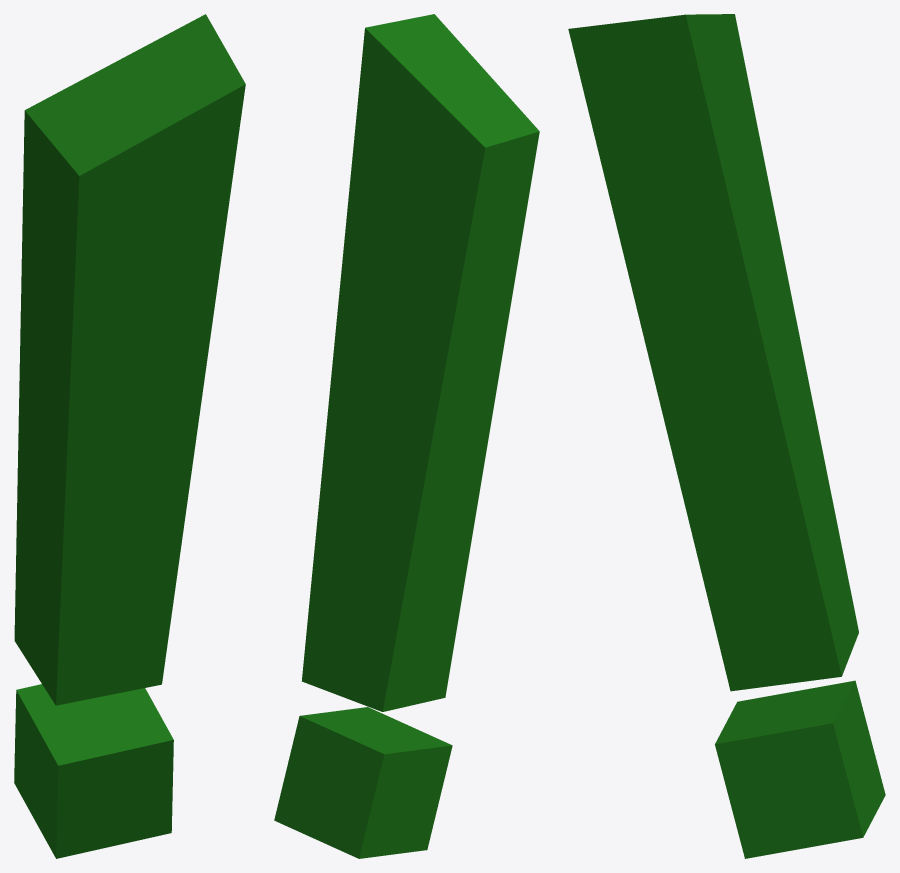
File: exclamation.fbx
The picture shows the model from 3 angles, left to right: view 1: azimuth 30°, elevation 25°; view 2: azimuth 150°, elevation 25°; view 3: azimuth 270°, elevation 25°; orthographic projection. The views are drawn at different scales.
Parts seen in each view (by area): view 1: mesh_2, mesh_1; view 2: mesh_2, mesh_1; view 3: mesh_2, mesh_1.
Boxes of the visible parts, x1,y1,x2,y2 form: mesh_2: [14, 14, 245, 705]; mesh_1: [14, 684, 173, 858]; mesh_2: [301, 14, 539, 711]; mesh_1: [274, 707, 452, 858]; mesh_2: [568, 14, 858, 691]; mesh_1: [715, 680, 885, 858].
Size of the model in its own units: 17.99 by 85.13 by 28.63.
